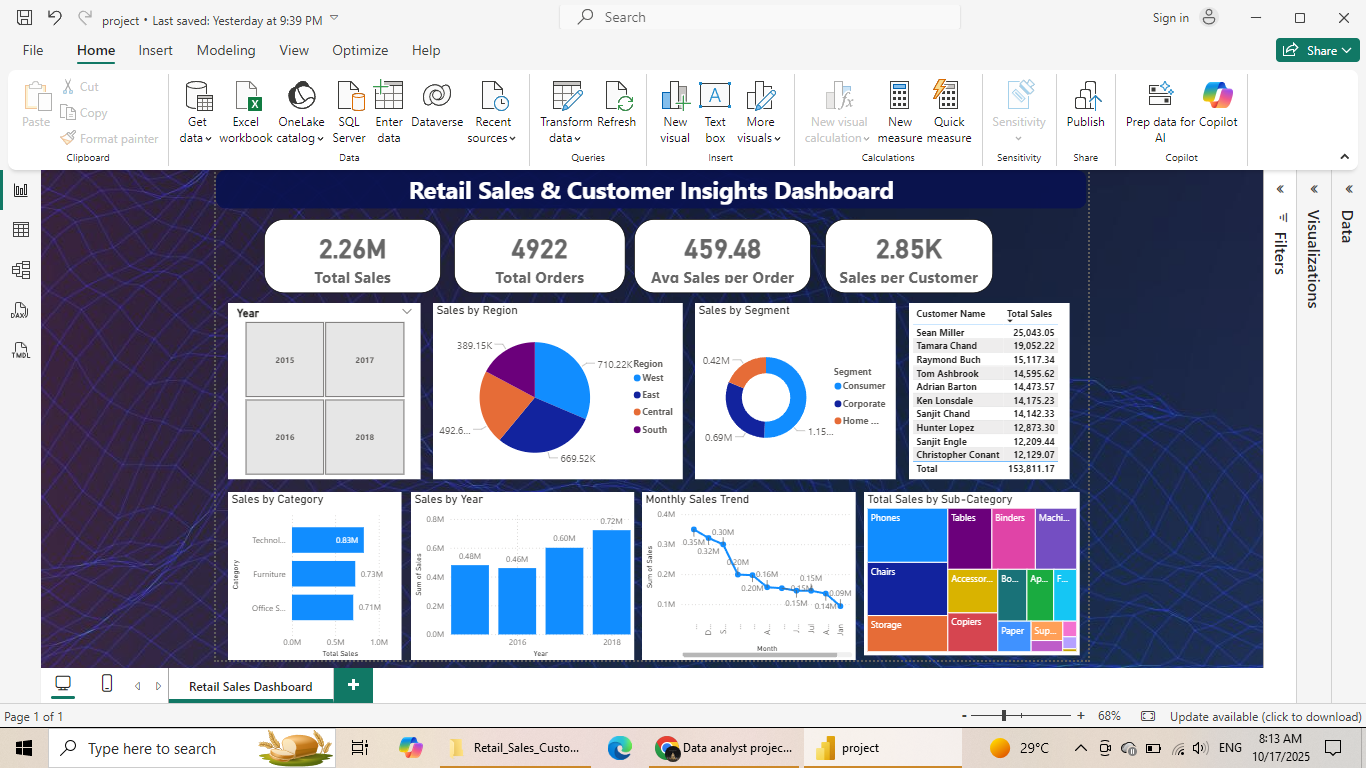

This screenshot's page, from the dashboard's own definition file:
{"tool":"powerbi","page":{"name":"Retail Sales Dashboard","canvas":[1280,720],"ordinal":0},"visuals":[{"type":"card","fields":{"Values":["Superstore_Sales.Total Sales"]},"box":[70.7,72.4,260.3,108.6],"z":1000},{"type":"card","fields":{"Values":["Superstore_Sales.Total Orders"]},"box":[350,72.4,251.7,108.6],"z":2000},{"type":"card","fields":{"Values":["Superstore_Sales.Avg Sales per Order"]},"box":[613.8,72.4,260.3,108.6],"z":3000},{"type":"card","fields":{"Values":["Superstore_Sales.Sales per Customer"]},"box":[894.8,72.4,246.6,108.6],"z":4000},{"type":"clusteredColumnChart","title":"Sales by Year","fields":{"Y":["Superstore_Sales.Sales"],"Category":["Superstore_Sales.Year"]},"box":[286.2,472.4,327.6,248.3],"z":5000},{"type":"lineChart","title":"Monthly Sales Trend","fields":{"Y":["Superstore_Sales.Sales"],"Category":["Superstore_Sales.Month"]},"box":[625.9,472.4,313.8,248.3],"z":6000},{"type":"clusteredBarChart","title":"Sales by Category","fields":{"Category":["Superstore_Sales.Category"],"Y":["Superstore_Sales.Total Sales"]},"box":[17.2,472.4,255.2,248.3],"z":7000},{"type":"treemap","fields":{"Values":["Superstore_Sales.Total Sales"],"Group":["Superstore_Sales.Sub-Category"]},"box":[951.7,472.4,317.2,239.7],"z":8000},{"type":"tableEx","fields":{"Values":["Superstore_Sales.Customer Name","Superstore_Sales.Total Sales"]},"box":[1019,194.8,236.2,258.6],"z":9000},{"type":"slicer","fields":{"Values":["Superstore_Sales.Year"]},"box":[17.2,194.8,282.8,258.6],"z":11000},{"type":"pieChart","title":"Sales by Region","fields":{"Category":["Superstore_Sales.Region"],"Y":["Superstore_Sales.Total Sales"]},"box":[319,194.8,367.2,258.6],"z":12000},{"type":"donutChart","title":"Sales by Segment","fields":{"Category":["Superstore_Sales.Segment"],"Y":["Superstore_Sales.Total Sales"]},"box":[703.4,194.8,294.8,258.6],"z":13000},{"type":"shape","box":[0,0,1279.3,56.9],"z":14000}]}

Visuals, with their boxes on the page's 1280x720 design canvas (x1, y1, x2, y2). These are canvas units, not pixel positions in the 1366x768 screenshot, which may show the page scaled, cropped or inside an application window:
card - Superstore_Sales.Total Sales: BBox(71, 72, 331, 181)
card - Superstore_Sales.Total Orders: BBox(350, 72, 602, 181)
card - Superstore_Sales.Avg Sales per Order: BBox(614, 72, 874, 181)
card - Superstore_Sales.Sales per Customer: BBox(895, 72, 1141, 181)
"Sales by Year" clusteredColumnChart: BBox(286, 472, 614, 721)
"Monthly Sales Trend" lineChart: BBox(626, 472, 940, 721)
"Sales by Category" clusteredBarChart: BBox(17, 472, 272, 721)
treemap - Superstore_Sales.Total Sales x Superstore_Sales.Sub-Category: BBox(952, 472, 1269, 712)
tableEx - Superstore_Sales.Customer Name x Superstore_Sales.Total Sales: BBox(1019, 195, 1255, 453)
slicer - Superstore_Sales.Year: BBox(17, 195, 300, 453)
"Sales by Region" pieChart: BBox(319, 195, 686, 453)
"Sales by Segment" donutChart: BBox(703, 195, 998, 453)
shape: BBox(0, 0, 1279, 57)
